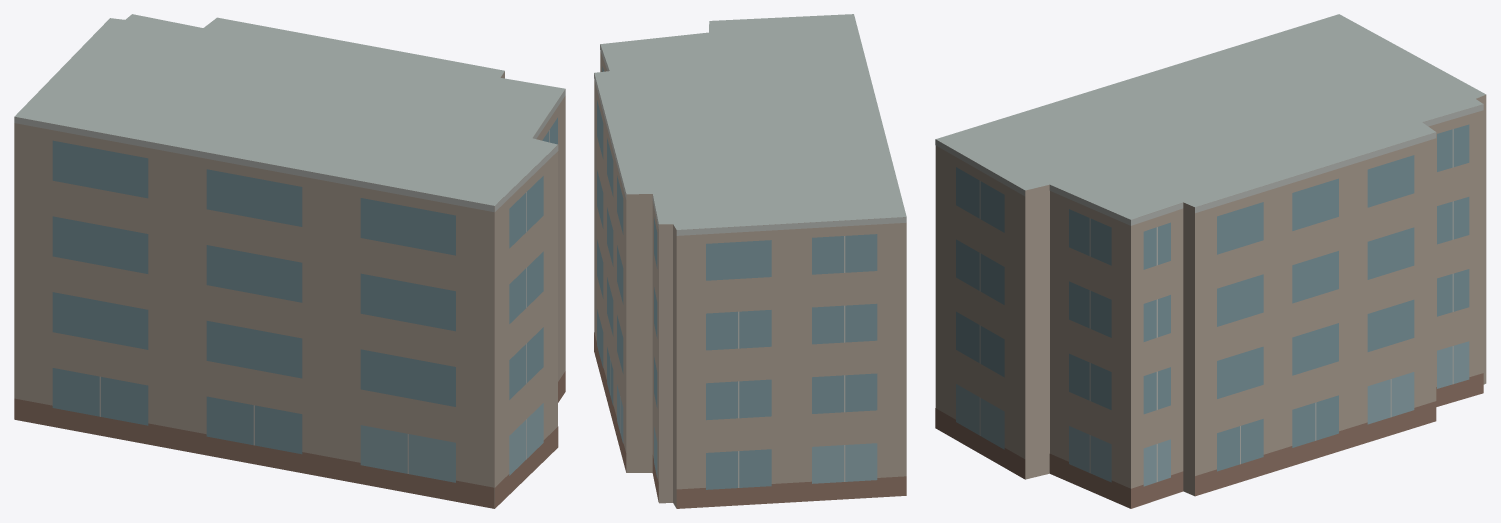
Rendered from survey-upis-32678595.glb.
3 views of the same model, side by side, from view 1: azimuth 30°, elevation 25°; view 2: azimuth 150°, elevation 25°; view 3: azimuth 270°, elevation 25° (orthographic). The views are drawn at different scales.
Visible parts, largest first — view 1: survey-upis-32678595.tmp; view 2: survey-upis-32678595.tmp; view 3: survey-upis-32678595.tmp.
Boxes of the visible parts, box(x1,y1,x2,y2) form: survey-upis-32678595.tmp: box(14, 14, 565, 508); survey-upis-32678595.tmp: box(594, 14, 906, 508); survey-upis-32678595.tmp: box(935, 14, 1486, 508).
Bounding box in the file's own units: 17.73 × 11.6 × 20.05.
